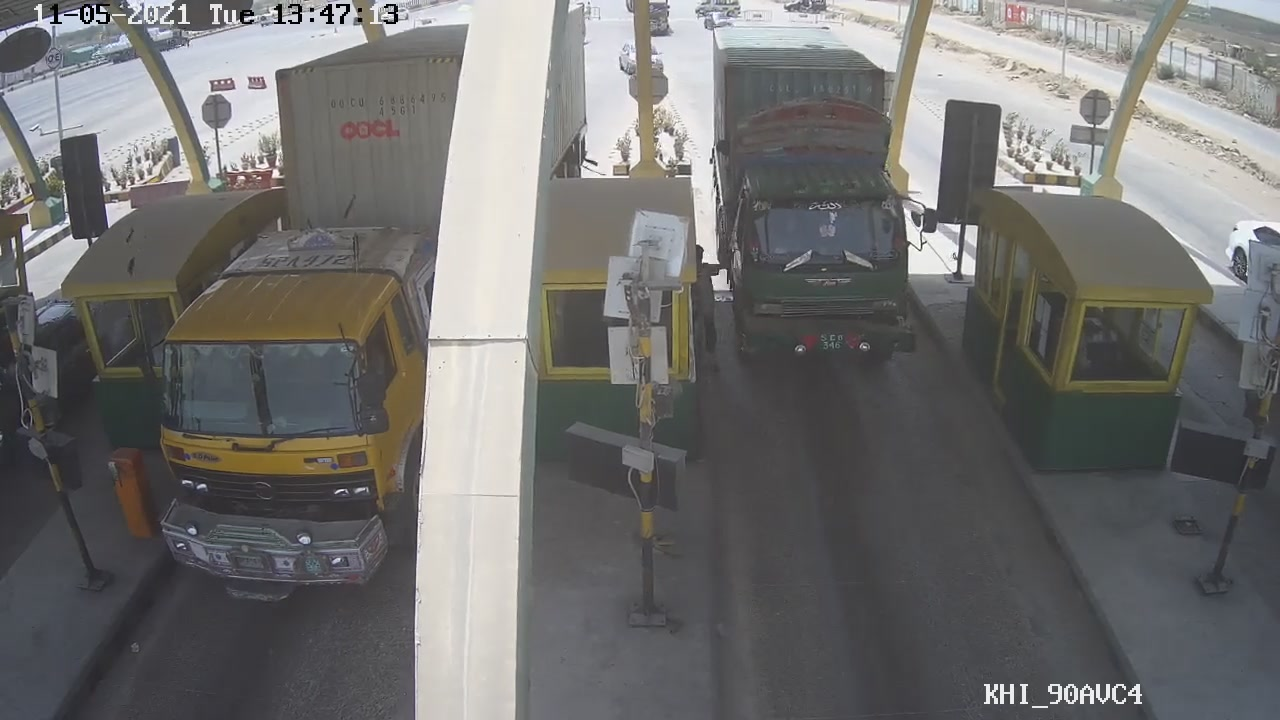F6: (704, 13, 941, 373)
